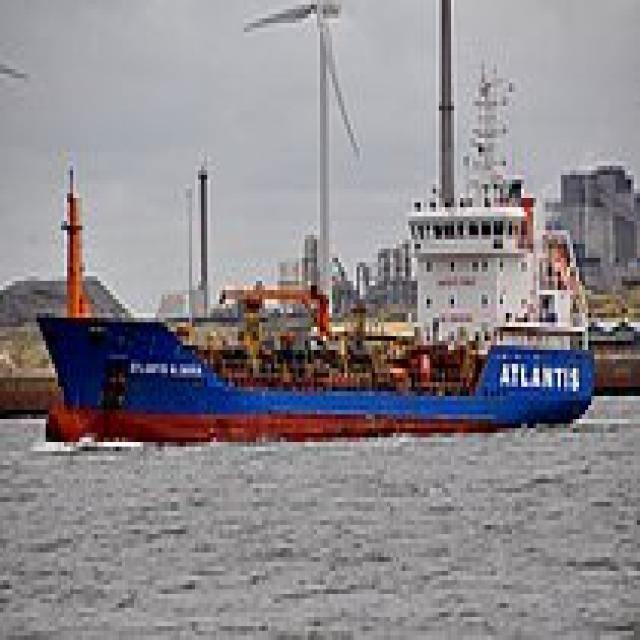Tanker: (31, 60, 594, 442)
